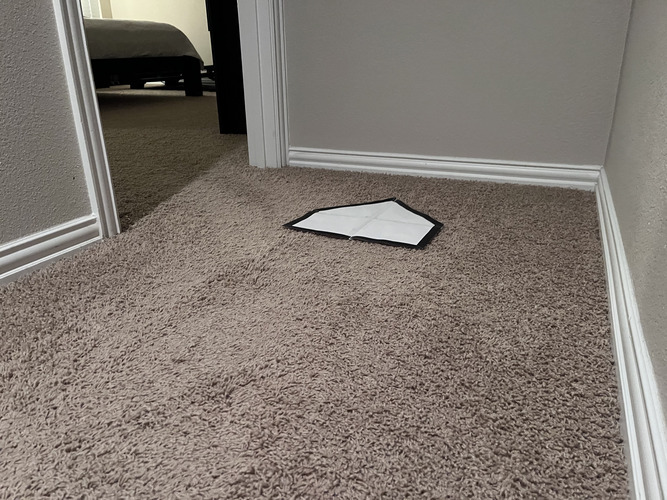homeplate: (282, 197, 443, 250)
